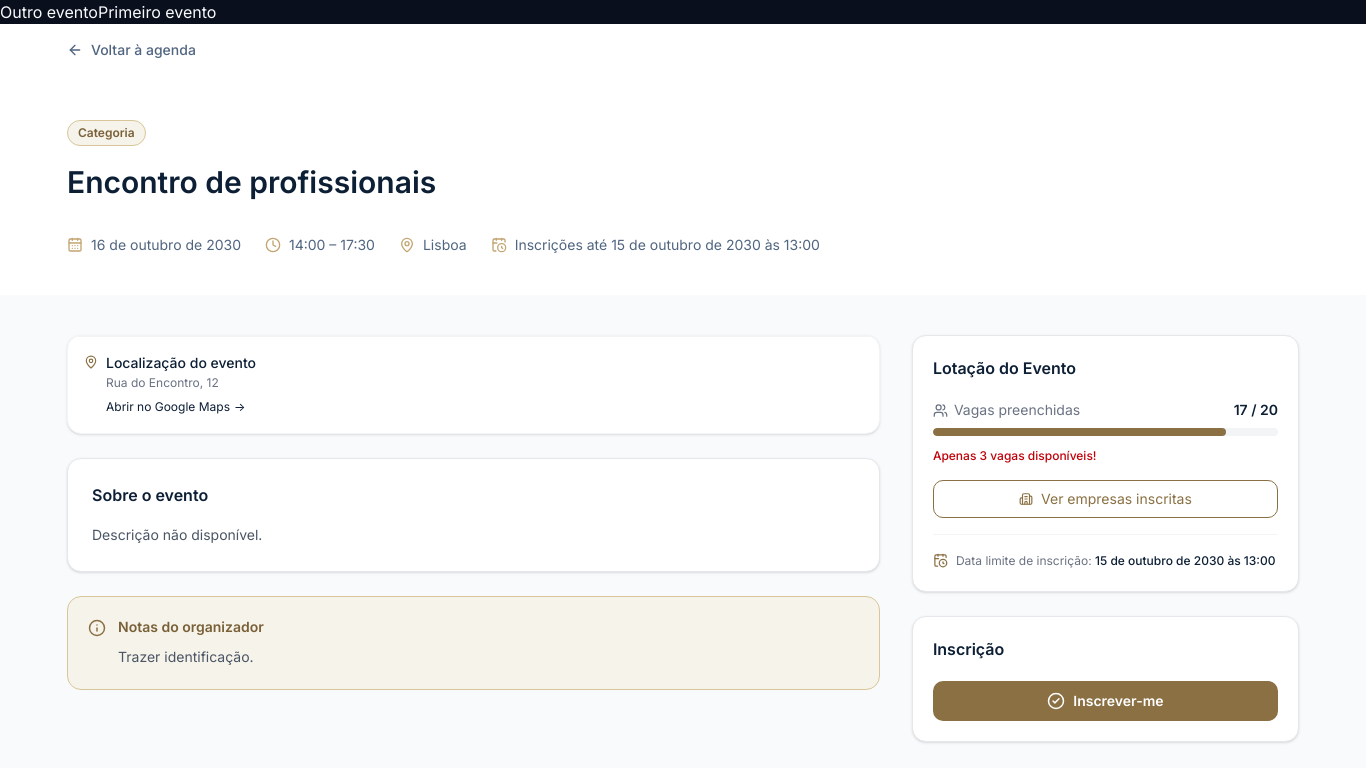
Test: Inscrição no detalhe do evento › mostra só a ação dourada ao membro não inscrito e o resumo real ao confirmar
This screenshot has width=1366, height=768.
Click the button "Inscrever-me" at (1105, 701), box [933,681,1278,721]
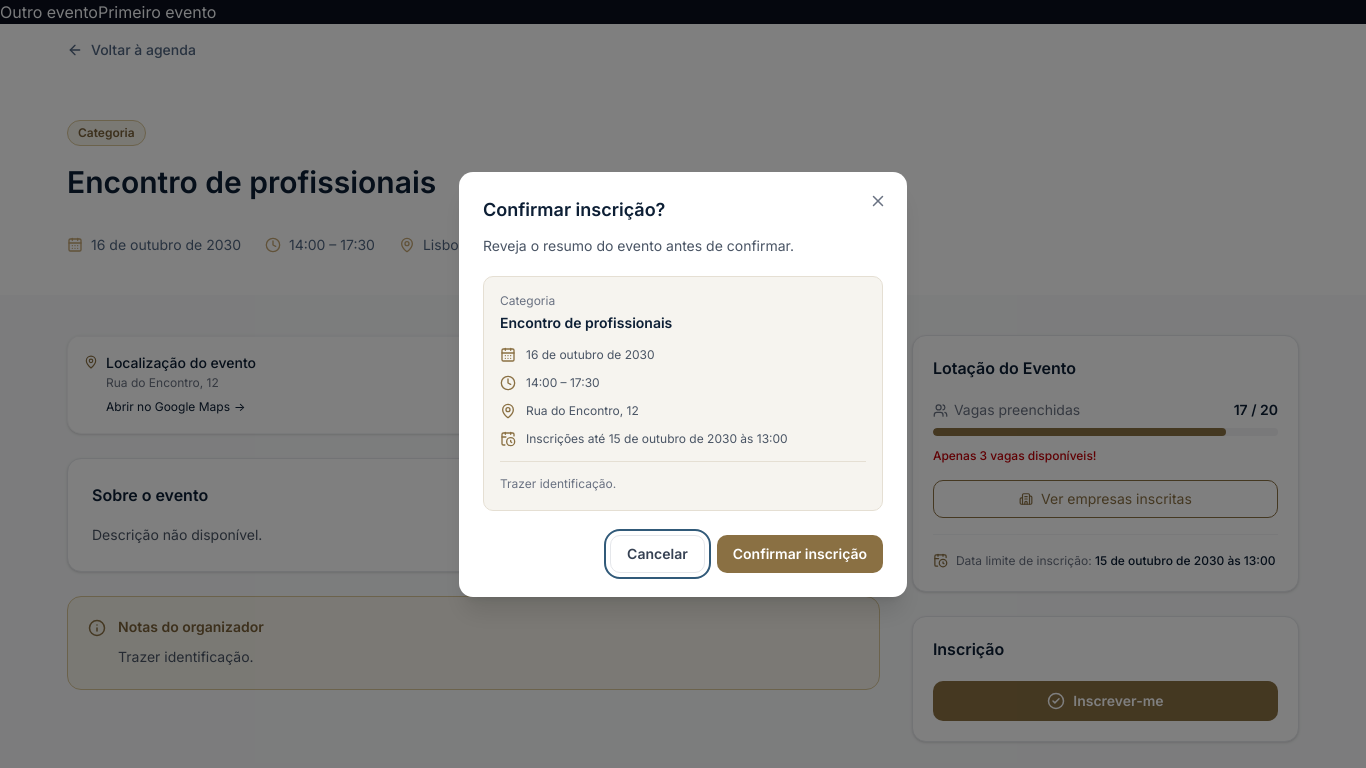
Expected: the text "Categoria" is shown, [500,292,555,308]
Expected: the heading "Encontro de profissionais" is shown, [500,314,672,330]
Expected: the text "16 de outubro de 2030" is shown, [526,344,655,364]
